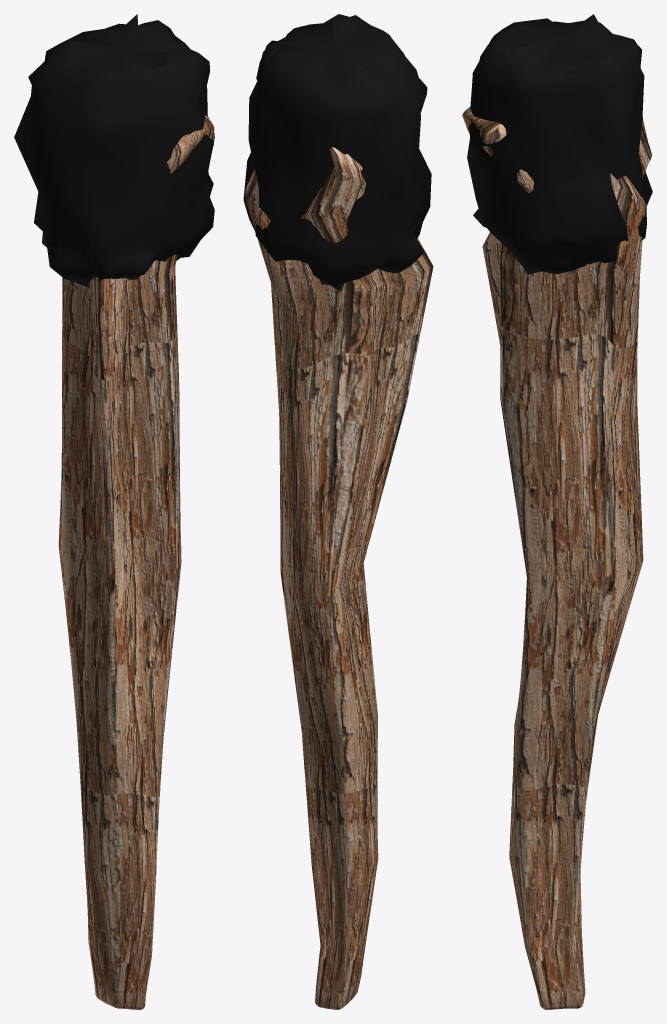
File: Torch.FBX
The picture shows the model from 3 angles, left to right: view 1: azimuth 30°, elevation 25°; view 2: azimuth 150°, elevation 25°; view 3: azimuth 270°, elevation 25°; orthographic projection.
Parts seen in each view (by area): view 1: ChamferBox016, ChamferCyl004; view 2: ChamferBox016, ChamferCyl004; view 3: ChamferBox016, ChamferCyl004.
Boxes of the visible parts, x1,y1,x2,y2 form: ChamferBox016: (58,115,214,1009); ChamferCyl004: (14,14,214,287); ChamferBox016: (245,147,433,1009); ChamferCyl004: (243,14,431,291); ChamferBox016: (462,107,651,1009); ChamferCyl004: (467,14,652,274).
Bounding box in the file's own units: 4.71 × 25.33 × 4.49.
Materials: 2 (1 with a texture image).
